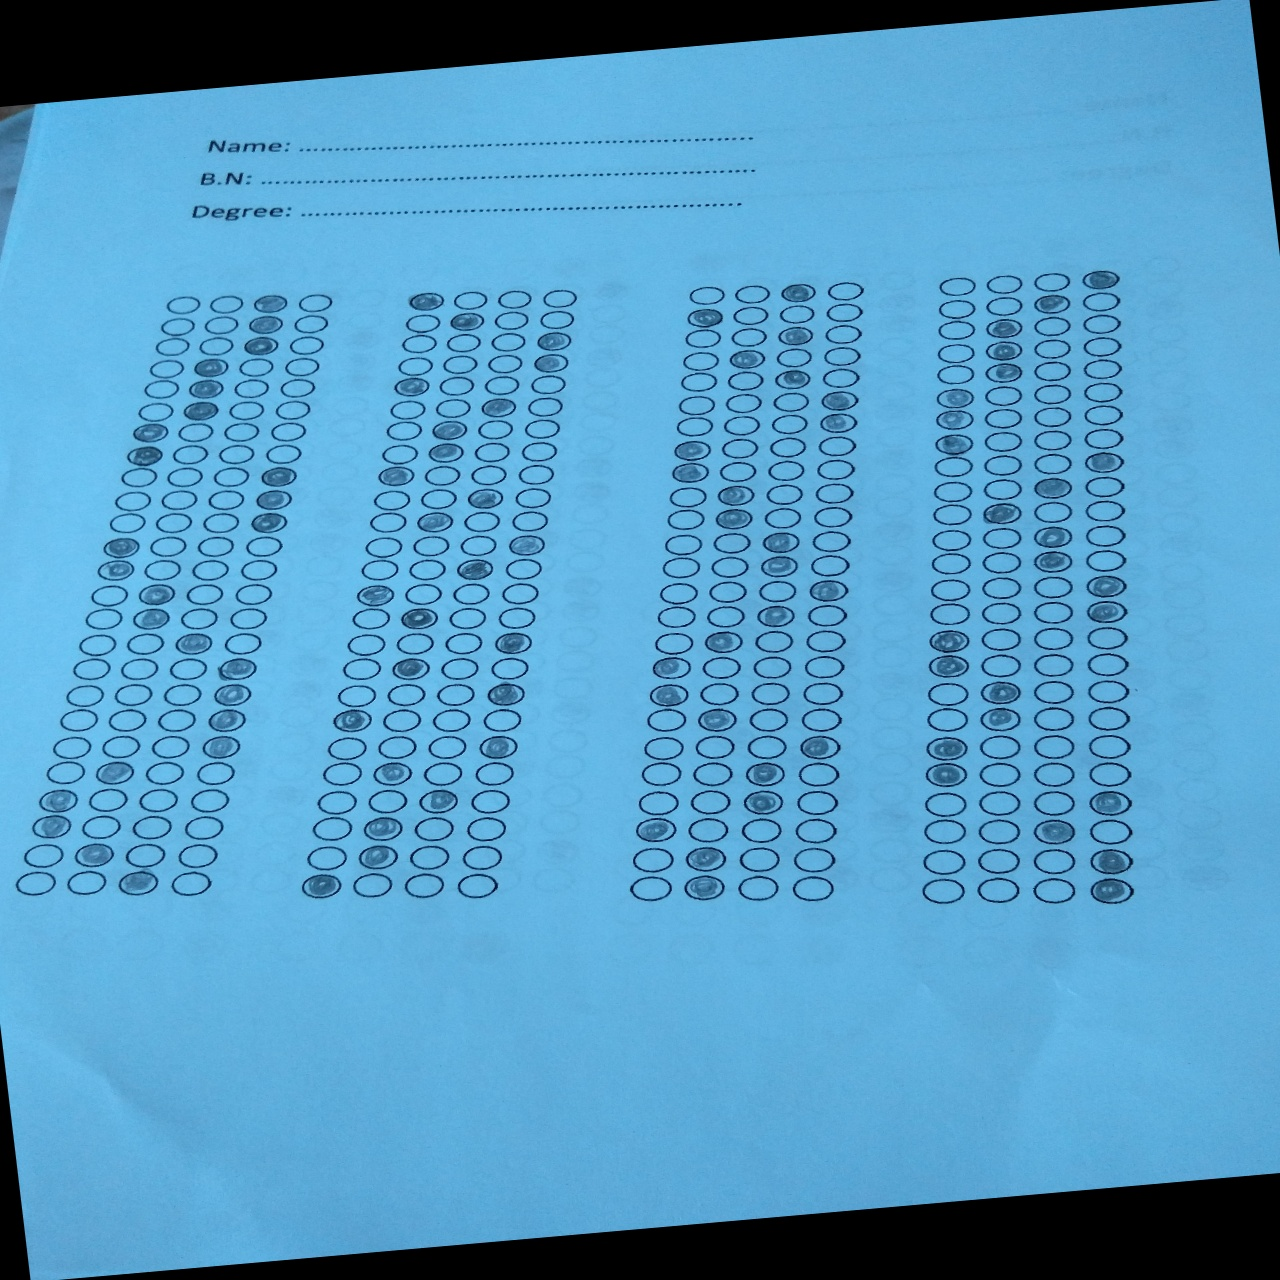not-c: (737, 813, 785, 845), (792, 815, 840, 846), (790, 844, 839, 874), (799, 678, 846, 709), (166, 869, 215, 899), (788, 873, 836, 904), (922, 789, 971, 819), (974, 874, 1022, 905), (636, 787, 682, 818), (459, 843, 506, 873), (463, 813, 510, 844), (467, 788, 513, 818), (1032, 788, 1078, 818), (976, 788, 1023, 818), (919, 876, 966, 906), (975, 817, 1022, 847), (1087, 817, 1133, 847), (627, 874, 675, 904), (734, 873, 782, 903), (1030, 846, 1078, 876), (302, 843, 348, 873), (406, 843, 451, 873), (363, 787, 409, 817), (374, 731, 420, 762), (423, 731, 469, 762), (794, 788, 839, 818), (686, 815, 731, 845), (922, 816, 968, 846), (1032, 874, 1077, 905), (401, 871, 448, 900), (420, 760, 467, 789), (319, 760, 366, 789), (735, 845, 782, 874), (921, 847, 968, 877), (975, 846, 1022, 876), (21, 840, 66, 871), (349, 871, 394, 901), (411, 815, 456, 845), (324, 733, 368, 763), (687, 787, 731, 817), (796, 760, 840, 790), (122, 840, 168, 870), (13, 869, 59, 898), (455, 871, 501, 900), (308, 815, 354, 844), (471, 760, 517, 789), (314, 788, 360, 817), (479, 706, 525, 735), (486, 654, 532, 683), (392, 628, 437, 658), (447, 579, 492, 608), (639, 760, 685, 789), (798, 704, 844, 734), (1084, 622, 1130, 652), (925, 679, 971, 708), (433, 681, 479, 709), (978, 625, 1024, 653), (978, 652, 1024, 680), (1085, 731, 1132, 760), (429, 706, 474, 735), (334, 681, 379, 710), (748, 679, 792, 708), (631, 845, 675, 874), (1085, 678, 1130, 707), (1032, 760, 1076, 789), (182, 813, 227, 842), (63, 869, 109, 897), (339, 655, 384, 683), (440, 629, 485, 658), (349, 605, 395, 633), (400, 580, 445, 608), (496, 579, 542, 607), (1032, 651, 1077, 679), (925, 706, 971, 734), (978, 733, 1023, 761), (978, 760, 1023, 788), (1087, 760, 1132, 788), (750, 652, 794, 681), (697, 679, 741, 708), (188, 787, 232, 815), (438, 655, 483, 683), (652, 629, 696, 658), (802, 653, 846, 681), (745, 706, 790, 734), (692, 731, 736, 760), (699, 654, 743, 682), (1032, 624, 1076, 652), (1032, 678, 1076, 706), (1033, 731, 1077, 760), (79, 813, 124, 840), (379, 707, 424, 734), (343, 631, 389, 658), (754, 577, 799, 604), (1085, 651, 1131, 678), (1085, 704, 1131, 731), (222, 629, 265, 658), (130, 813, 173, 842), (744, 731, 788, 760), (690, 760, 734, 788), (86, 787, 130, 813), (136, 787, 181, 813), (176, 843, 220, 870), (445, 605, 490, 632), (493, 605, 538, 632), (808, 527, 852, 554), (808, 552, 852, 579), (659, 554, 703, 581), (702, 604, 747, 631), (804, 627, 849, 654), (1032, 704, 1076, 731), (227, 604, 270, 632), (124, 629, 166, 658), (707, 554, 753, 580), (143, 760, 186, 787), (383, 681, 427, 708), (408, 533, 451, 560), (508, 508, 551, 535), (367, 509, 410, 536), (421, 462, 464, 489), (815, 433, 858, 459), (662, 531, 706, 558), (804, 602, 847, 629), (753, 628, 796, 655), (931, 478, 974, 505), (930, 501, 973, 527), (1082, 474, 1125, 501), (981, 549, 1024, 576), (928, 550, 972, 577), (980, 600, 1023, 627), (980, 574, 1023, 601), (1032, 599, 1075, 626), (810, 504, 855, 530), (704, 579, 749, 605), (644, 707, 688, 733), (185, 581, 227, 608), (88, 583, 130, 610), (83, 606, 125, 633), (179, 605, 222, 632), (76, 631, 118, 658), (117, 656, 159, 683), (159, 681, 202, 708), (63, 682, 105, 709), (105, 706, 148, 733), (156, 707, 198, 734), (100, 733, 142, 760), (372, 486, 414, 513), (930, 527, 972, 554), (1084, 522, 1126, 549), (166, 655, 210, 681), (359, 557, 402, 583), (361, 536, 404, 561), (456, 532, 499, 558), (511, 485, 554, 511), (517, 440, 560, 465), (470, 440, 513, 465), (377, 441, 421, 467), (382, 418, 425, 444), (525, 372, 568, 397), (401, 311, 444, 336), (489, 307, 532, 333), (709, 530, 753, 556), (658, 581, 701, 607), (654, 604, 697, 629), (641, 735, 685, 761), (934, 316, 978, 342), (981, 476, 1024, 502), (1083, 498, 1126, 524), (57, 706, 98, 733), (45, 760, 86, 787), (195, 760, 236, 787), (158, 486, 200, 512), (189, 557, 231, 583), (232, 581, 274, 607), (70, 656, 113, 682), (149, 734, 191, 760), (459, 509, 502, 535), (417, 486, 459, 512), (467, 461, 509, 486), (513, 462, 556, 488), (386, 397, 428, 423), (481, 373, 523, 399), (438, 352, 481, 377), (674, 393, 716, 418), (720, 413, 762, 438), (813, 481, 856, 506), (763, 482, 805, 508), (663, 508, 706, 533), (1030, 358, 1073, 383), (1032, 381, 1074, 407), (1032, 501, 1074, 526), (1085, 549, 1128, 574), (930, 577, 972, 602), (928, 601, 971, 627), (1032, 576, 1074, 601), (503, 556, 543, 583), (151, 510, 195, 535), (147, 535, 190, 559), (139, 558, 183, 583), (429, 396, 472, 421), (393, 354, 436, 379), (685, 284, 728, 308), (728, 302, 771, 327), (728, 325, 771, 349), (681, 326, 724, 350), (822, 322, 865, 347), (769, 389, 812, 414), (933, 362, 976, 387), (1080, 290, 1123, 314), (931, 454, 974, 478), (1032, 428, 1075, 452), (1082, 427, 1125, 451), (1081, 381, 1124, 406), (980, 526, 1023, 551), (113, 489, 154, 515), (113, 682, 154, 708), (52, 735, 93, 761), (434, 374, 476, 399), (483, 352, 525, 376), (442, 331, 484, 355), (399, 331, 441, 355), (535, 307, 577, 332), (538, 286, 580, 311), (825, 278, 867, 302), (772, 345, 815, 369), (767, 435, 809, 459), (760, 506, 802, 531), (982, 272, 1024, 297), (983, 293, 1026, 318), (937, 297, 979, 321), (1032, 336, 1074, 361), (1080, 312, 1122, 336), (982, 406, 1024, 430), (982, 452, 1024, 477), (1030, 406, 1073, 430), (1082, 403, 1124, 428), (522, 395, 565, 418), (774, 302, 817, 326), (666, 485, 709, 509), (1081, 335, 1124, 359), (1081, 358, 1124, 381), (206, 488, 247, 512), (198, 510, 239, 535), (238, 558, 279, 583), (474, 417, 515, 442), (821, 345, 862, 369), (821, 367, 862, 392), (674, 414, 715, 438), (768, 411, 809, 436), (719, 436, 760, 461), (717, 459, 758, 484), (813, 457, 855, 482), (1032, 268, 1073, 293), (1032, 314, 1073, 339), (1032, 451, 1073, 476), (297, 290, 335, 315), (407, 557, 445, 583), (107, 511, 149, 535), (243, 535, 285, 558), (486, 331, 529, 354), (449, 288, 491, 312), (492, 287, 535, 311), (730, 282, 772, 306), (824, 300, 866, 324), (679, 349, 721, 373), (678, 370, 720, 394), (723, 368, 765, 392), (722, 392, 764, 415), (937, 275, 979, 299), (935, 341, 978, 365), (982, 383, 1024, 407), (982, 430, 1024, 454), (200, 313, 240, 338), (268, 420, 308, 444), (263, 442, 302, 467), (222, 420, 261, 444), (226, 399, 266, 423), (195, 535, 236, 558), (520, 416, 561, 440), (765, 458, 806, 482), (158, 314, 197, 339), (287, 333, 326, 358), (163, 293, 203, 316), (206, 293, 246, 316), (291, 312, 331, 335), (278, 376, 318, 400), (216, 443, 256, 467), (234, 356, 274, 380), (147, 358, 186, 381), (141, 377, 181, 401), (135, 400, 175, 423), (175, 421, 215, 444), (170, 442, 210, 465), (120, 465, 159, 489), (211, 465, 251, 489), (196, 334, 234, 358), (282, 354, 321, 377), (165, 465, 205, 488), (232, 376, 270, 400), (154, 335, 192, 358), (273, 399, 312, 421)
taken-c: (1085, 845, 1137, 878), (1030, 813, 1080, 847), (1088, 874, 1138, 907), (1085, 787, 1135, 819), (921, 758, 972, 790), (975, 704, 1026, 735), (922, 626, 974, 655), (1081, 595, 1132, 625), (921, 651, 972, 680), (921, 734, 971, 763), (359, 815, 406, 845), (483, 679, 530, 709), (974, 678, 1024, 706), (354, 842, 400, 872), (298, 871, 345, 900), (328, 707, 375, 736), (386, 655, 433, 685), (741, 788, 785, 818), (682, 843, 727, 873), (1082, 572, 1130, 600), (1028, 524, 1076, 552), (930, 431, 978, 459), (930, 383, 978, 411), (70, 840, 116, 870), (114, 869, 159, 898), (369, 760, 415, 789), (475, 734, 520, 763), (632, 816, 678, 845), (680, 873, 726, 903), (1029, 474, 1075, 503), (489, 629, 536, 658), (1081, 449, 1128, 477), (931, 406, 978, 434), (1028, 549, 1076, 576), (978, 499, 1026, 526), (28, 812, 74, 840), (415, 787, 461, 815), (399, 606, 444, 634), (461, 485, 506, 513), (700, 627, 745, 655), (743, 760, 787, 789), (753, 602, 799, 629), (645, 681, 692, 708), (694, 706, 741, 733), (796, 734, 843, 761), (210, 681, 254, 709), (454, 554, 498, 583), (806, 577, 852, 604), (981, 315, 1027, 342), (1078, 267, 1124, 294), (217, 655, 260, 683), (1028, 291, 1075, 316), (353, 583, 397, 610), (504, 532, 549, 559), (411, 508, 456, 535), (649, 655, 694, 682), (981, 338, 1027, 363), (197, 733, 240, 760), (91, 760, 135, 787), (172, 631, 215, 658), (38, 788, 80, 815), (979, 361, 1024, 386), (373, 463, 416, 489), (476, 395, 519, 421), (207, 707, 248, 734), (425, 440, 467, 467), (101, 535, 143, 560), (134, 583, 176, 608), (428, 418, 470, 444), (390, 375, 433, 401), (530, 350, 572, 376), (771, 367, 813, 393), (817, 410, 859, 436), (668, 461, 710, 486), (244, 312, 285, 338), (777, 280, 818, 306), (685, 304, 726, 329), (726, 346, 767, 372), (760, 529, 801, 554), (758, 553, 799, 579), (185, 377, 227, 402), (254, 488, 297, 512), (95, 558, 137, 583), (448, 308, 490, 333), (775, 324, 817, 348), (672, 440, 714, 464), (713, 483, 755, 508), (712, 508, 754, 532), (248, 291, 290, 315), (240, 333, 281, 358), (181, 399, 222, 423), (129, 421, 170, 445), (124, 443, 165, 468), (248, 510, 290, 535), (535, 329, 576, 354), (406, 290, 447, 314), (821, 389, 862, 414), (190, 355, 232, 379), (256, 465, 298, 489), (130, 606, 170, 631)
